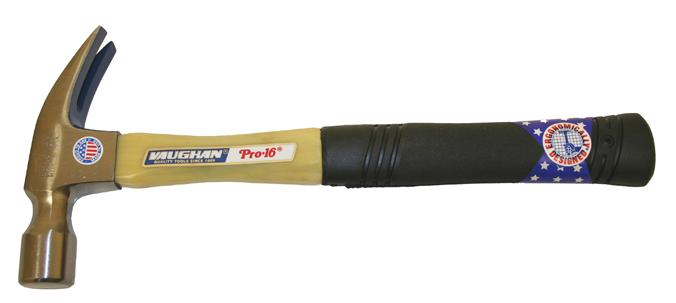hammer: (16, 22, 656, 290)
